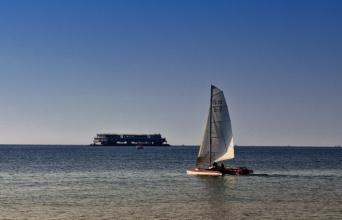fanchuan: (186, 78, 249, 178)
otherboat: (88, 129, 177, 147)
